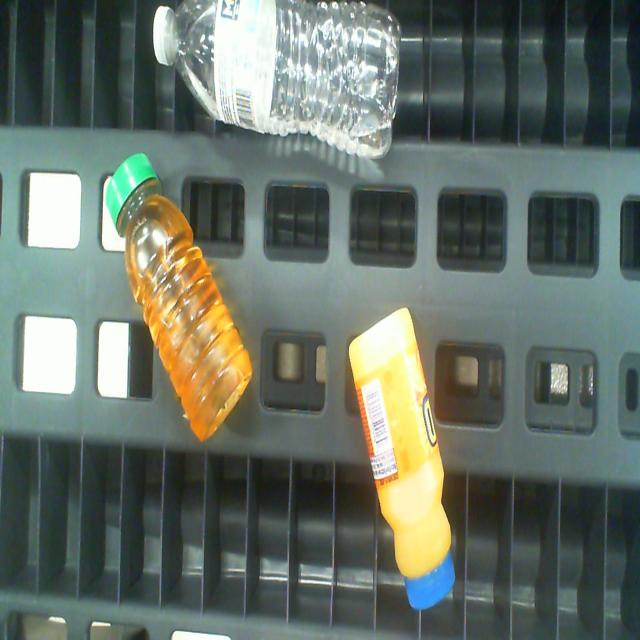drink: (100, 146, 160, 225), (404, 551, 459, 616), (152, 6, 174, 68)
